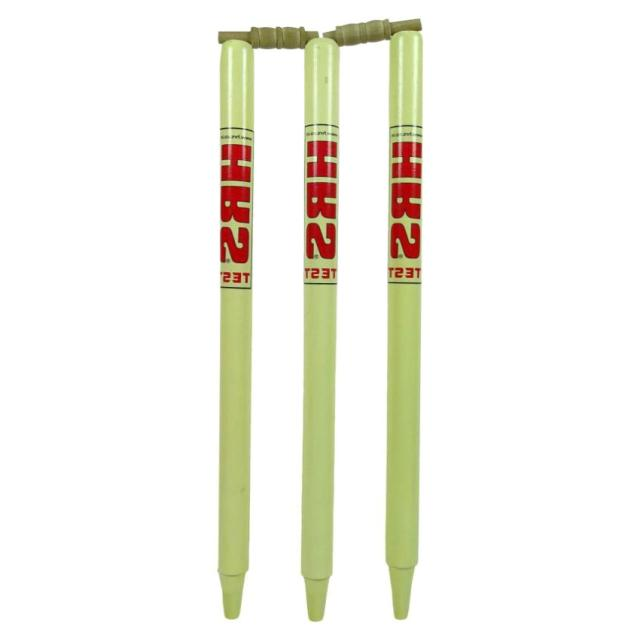stump: (223, 16, 422, 618)
